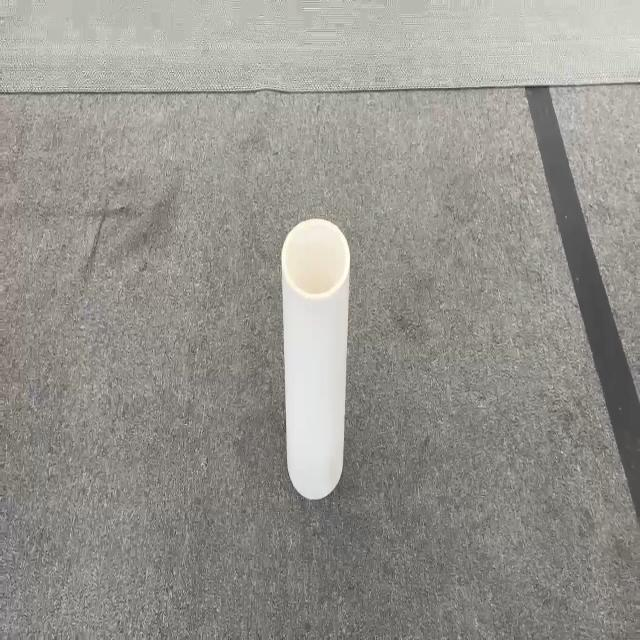coral: (280, 216, 351, 500)
